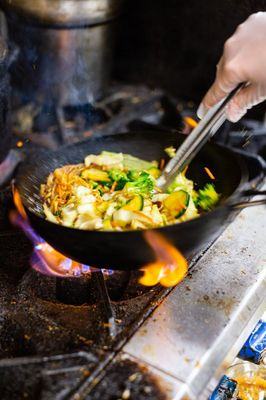salad: (153, 84, 248, 195)
sushi: (9, 42, 265, 280)
